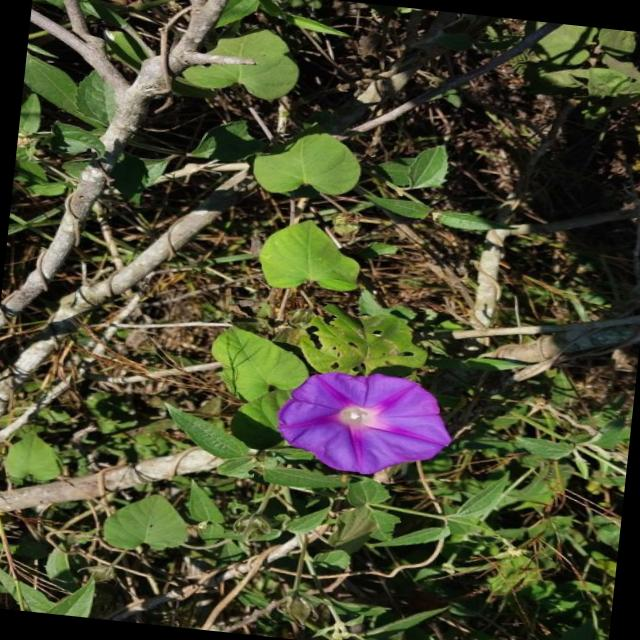ipomoea: (266, 360, 461, 484)
